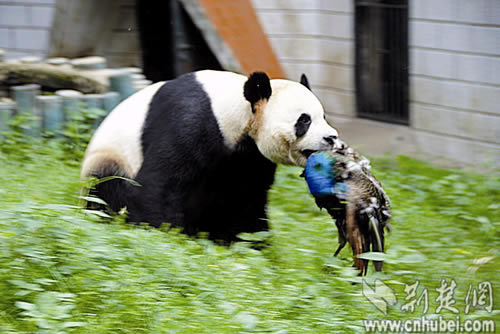panda: (76, 65, 340, 251)
